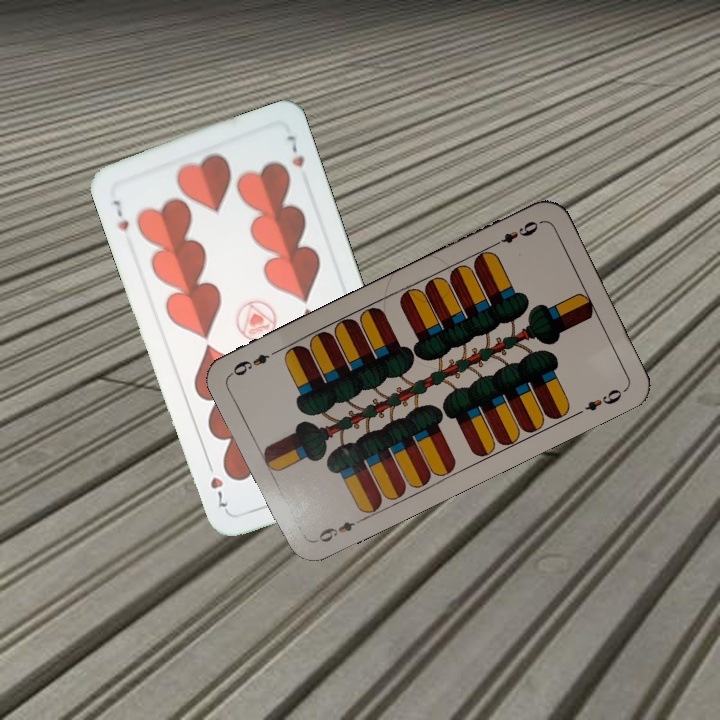E9: (488, 217, 544, 250), (310, 514, 366, 545)
H7: (109, 196, 132, 233)
